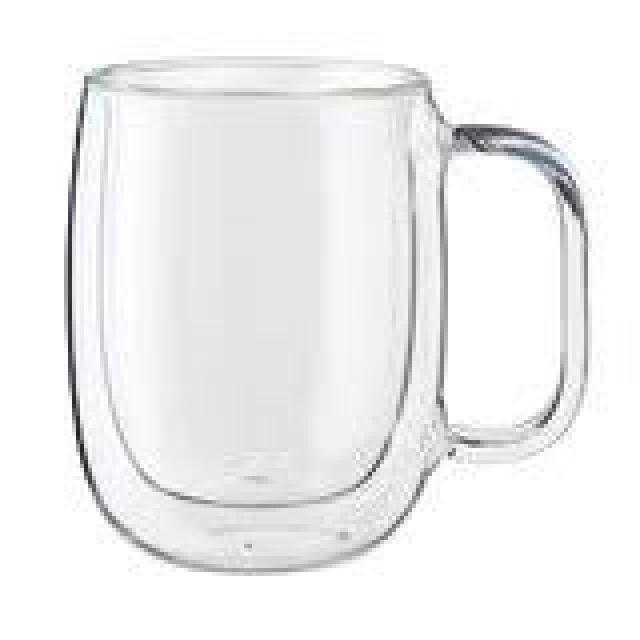Glass: (66, 50, 590, 573)
